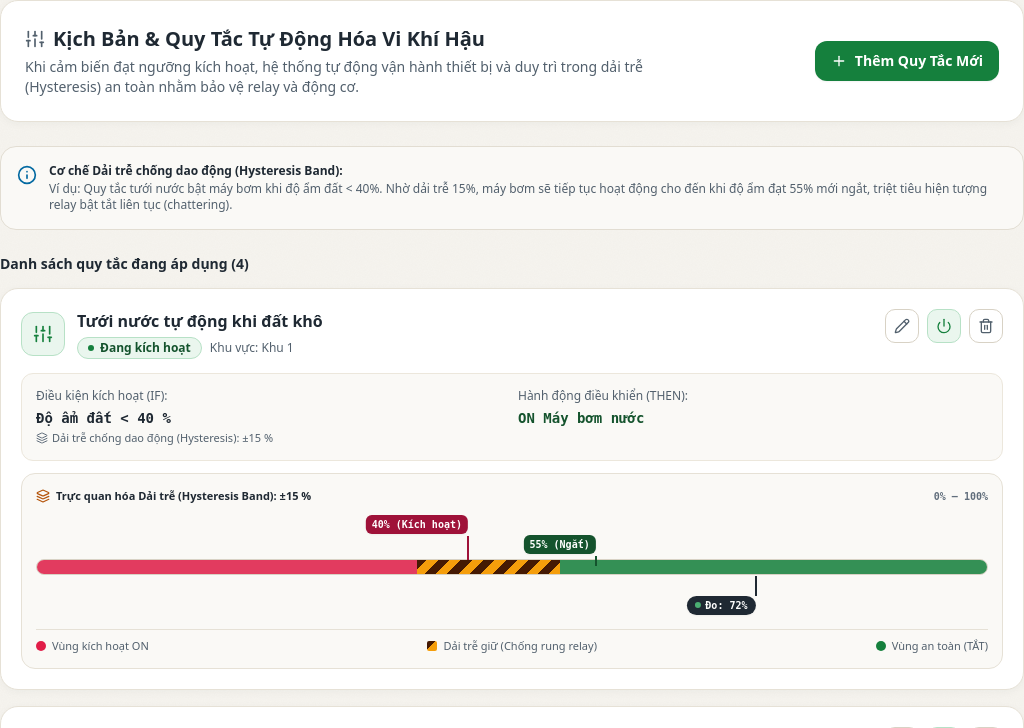
it: AutomationPage Rule Engine › opens create rule modal and validates form inputs
The width and height of the screenshot is (1024, 728).
Later steps or results of the test are not shown.
Click the button "Thêm Quy Tắc Mới": [907, 61] box [815,41,999,81]
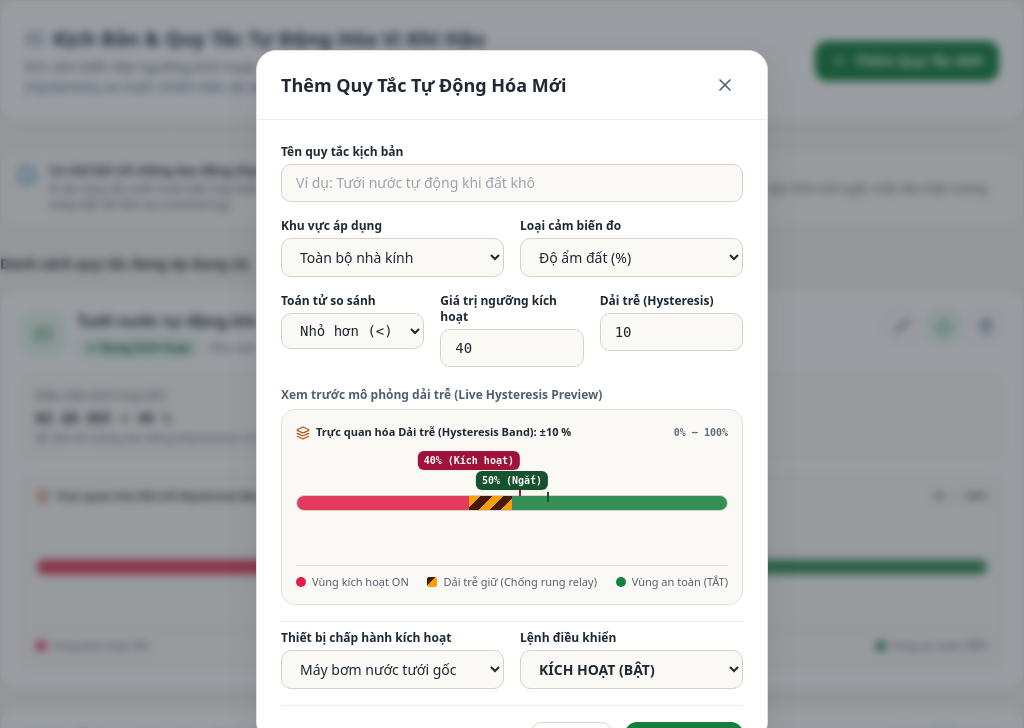
Result: the text "Thêm Quy Tắc Tự Động Hóa Mới" is shown at [281,73,566,98]
Result: the field with placeholder "Ví dụ: Tưới nước tự động khi đất khô" is shown at [281,164,743,202]
